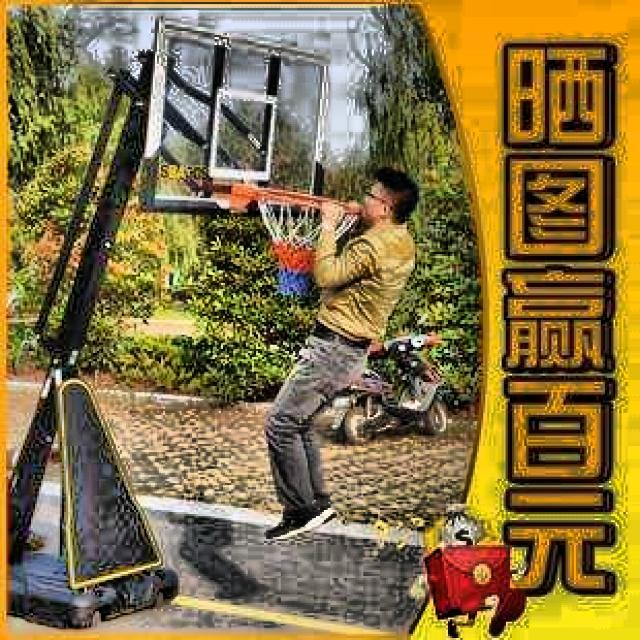rim: (250, 186, 357, 301)
